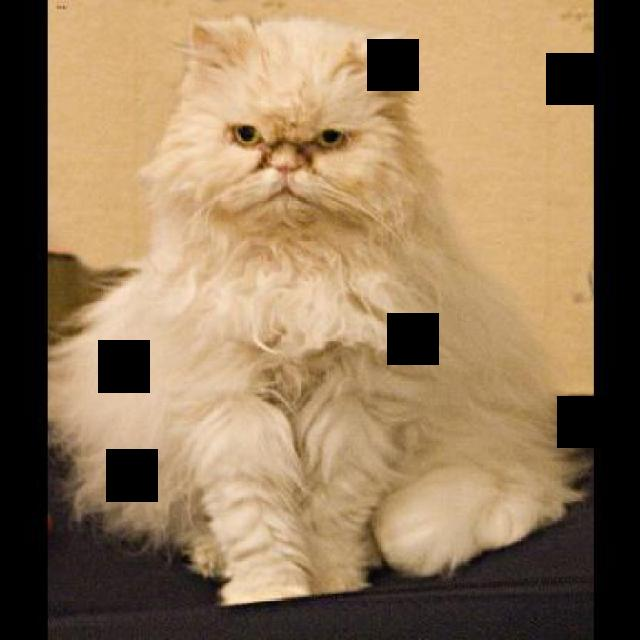unauthorized: (48, 11, 592, 606)
